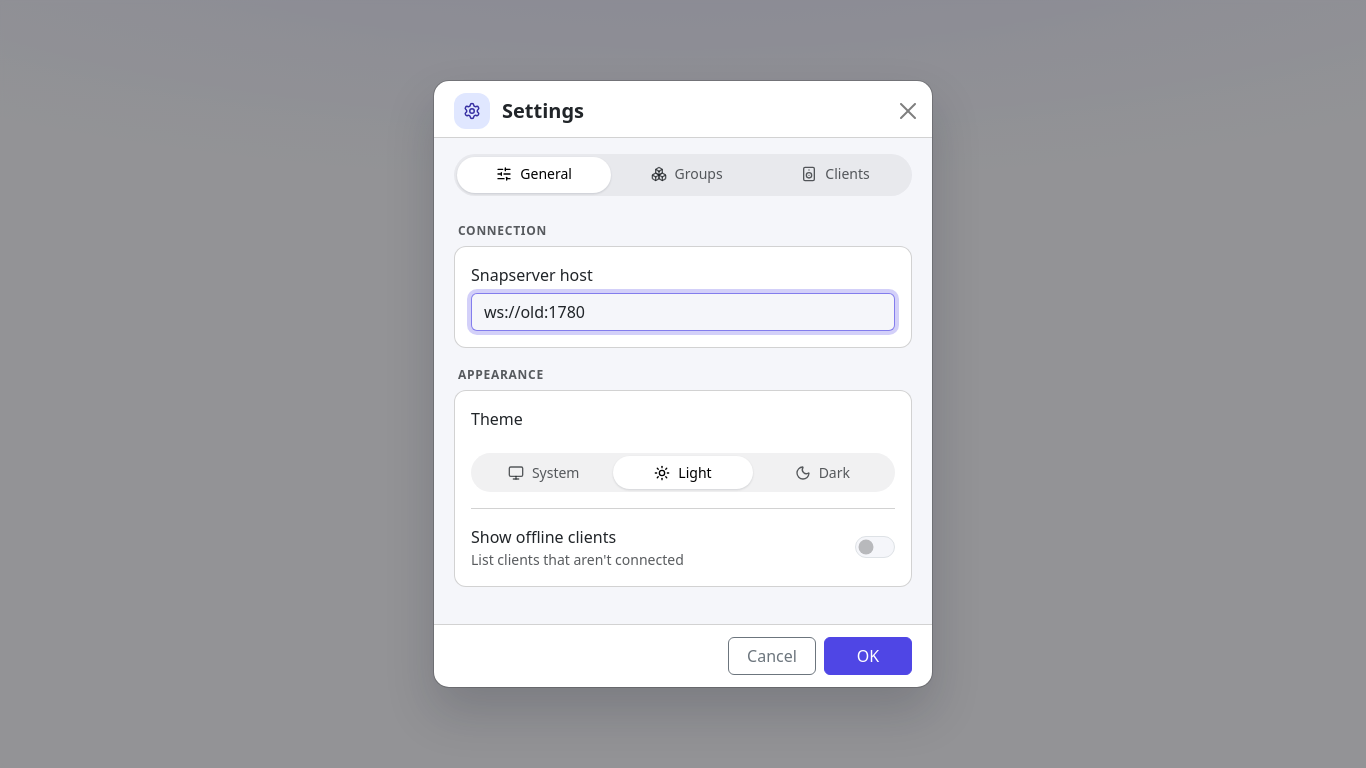
SettingsDialog › clients › shows the client details read-only
Click the tab "Clients".
click(836, 175)  # box [762, 157, 909, 192]
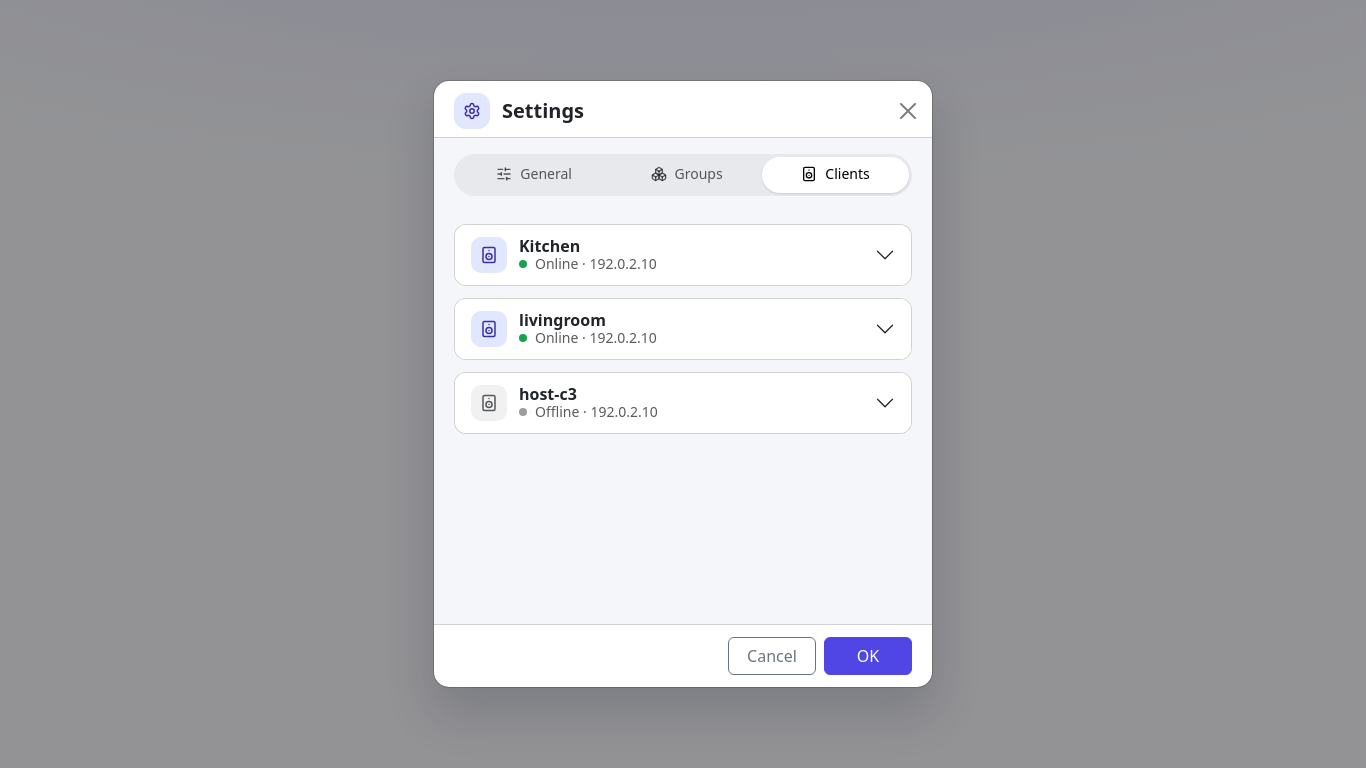
Click the button "Kitchen Online · 192.0.2.10".
click(489, 254)  # box [455, 224, 911, 284]
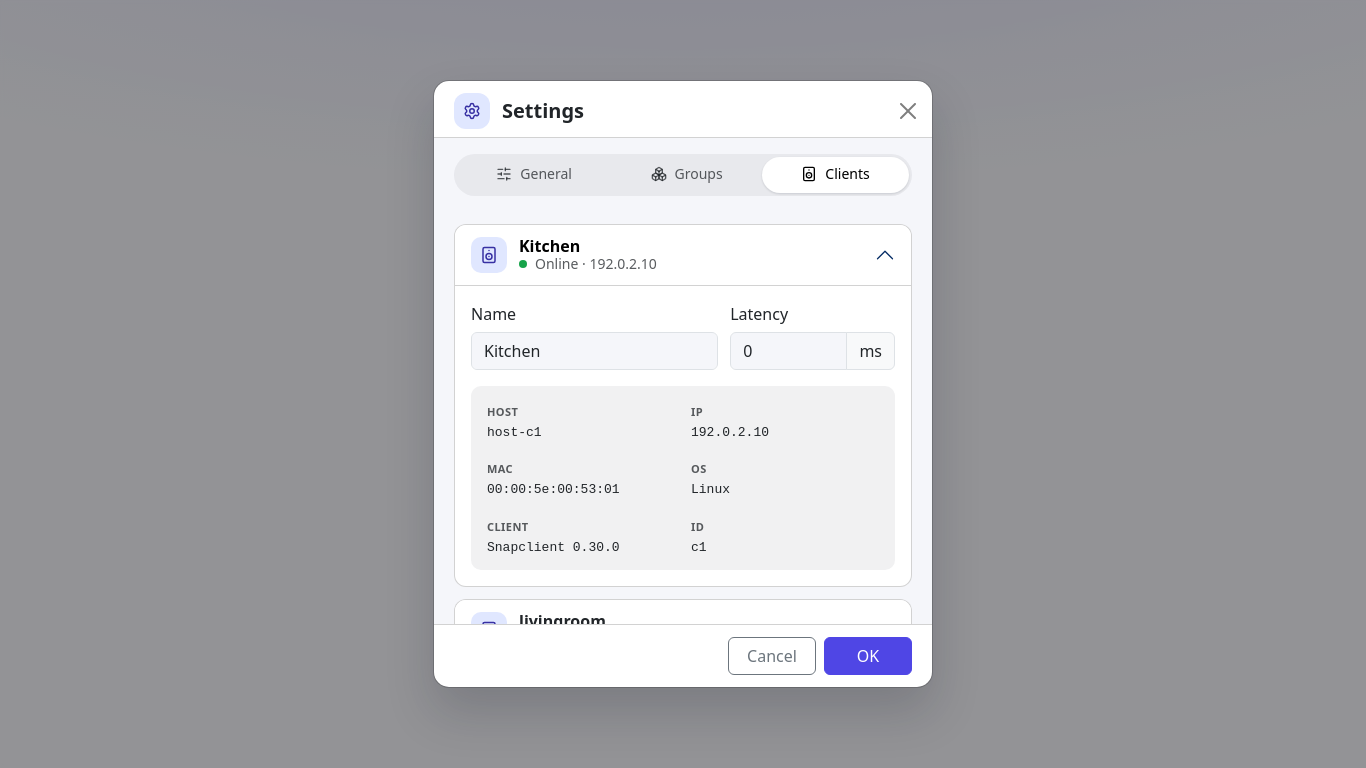
Expected: the field labelled "Name" holds "Kitchen", [471, 332, 718, 370]
Expected: the field labelled "Client" holds "Snapclient 0.30.0", [487, 536, 675, 558]
Expected: the field labelled "ID" holds "c1", [691, 536, 879, 558]
